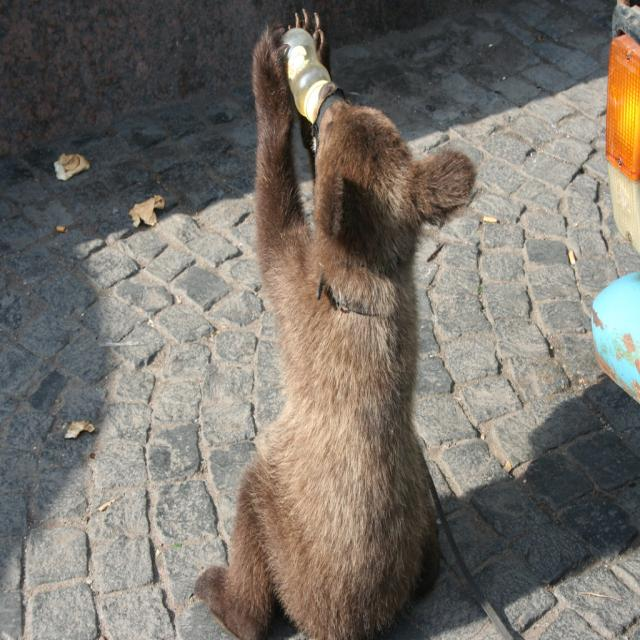Buffalo: (191, 8, 477, 640)
